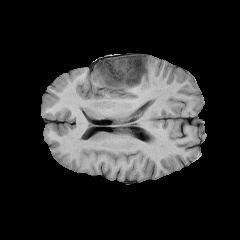glioma: (97, 56, 147, 89)
